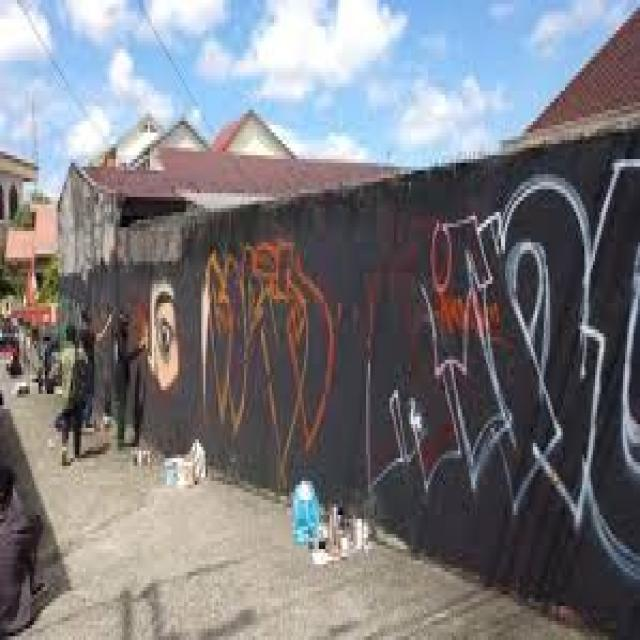-: (363, 156, 640, 580), (196, 233, 336, 467), (146, 276, 182, 396)
